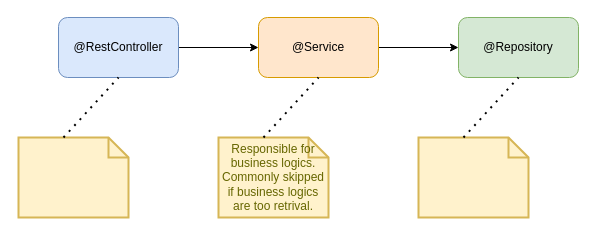
Some shapes in this 596 by 236 pixel diagram are drawn without their labels. Here are the shapes that lost their labels. From the top down, the centre of each, then its label:
At [73,177]: "Responsible for handling HTTP related code.".
At [473,177]: "Responsible for Data Access".
